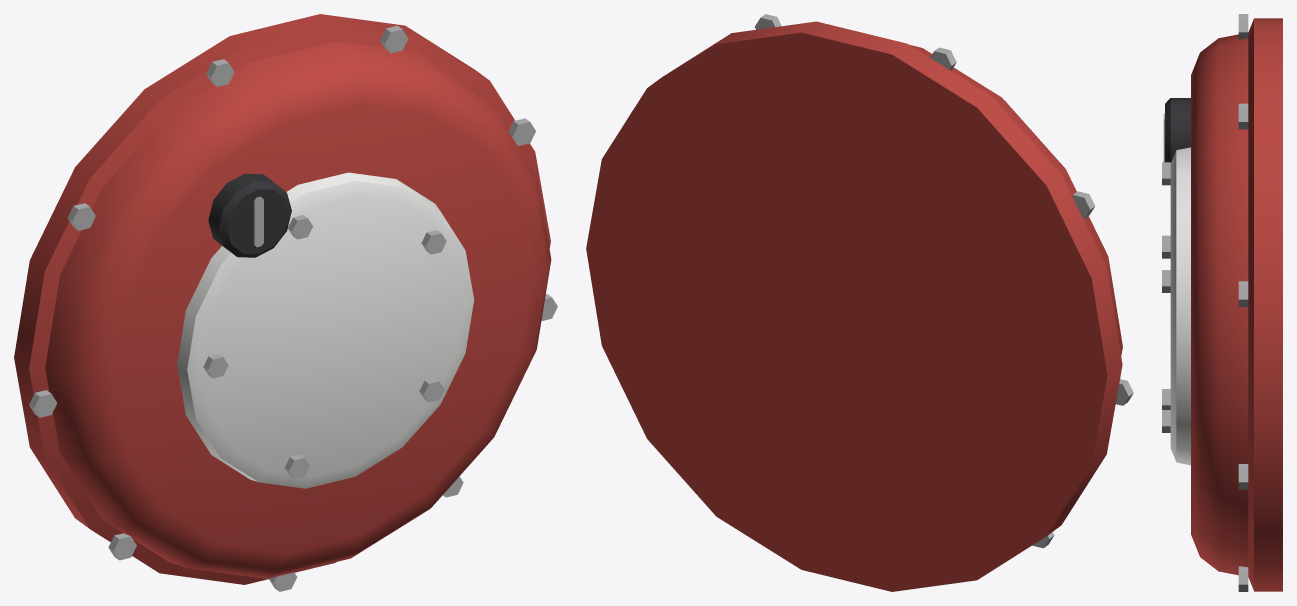
File: clutch.glb
3 renders of one model, left to right at view 1: azimuth 30°, elevation 25°; view 2: azimuth 150°, elevation 25°; view 3: azimuth 270°, elevation 25°, orthographic. The views are drawn at different scales.
Parts seen in each view (by area): view 1: clutch; view 2: clutch; view 3: clutch.
Part boxes in pixels (x1,y1,x2,y2): clutch: (14, 14, 557, 591); clutch: (586, 14, 1133, 591); clutch: (1162, 14, 1282, 591).
Bounding box in the file's own units: 0.2012 × 0.1998 × 0.042.
